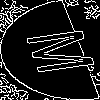M: (25, 25, 100, 76)
